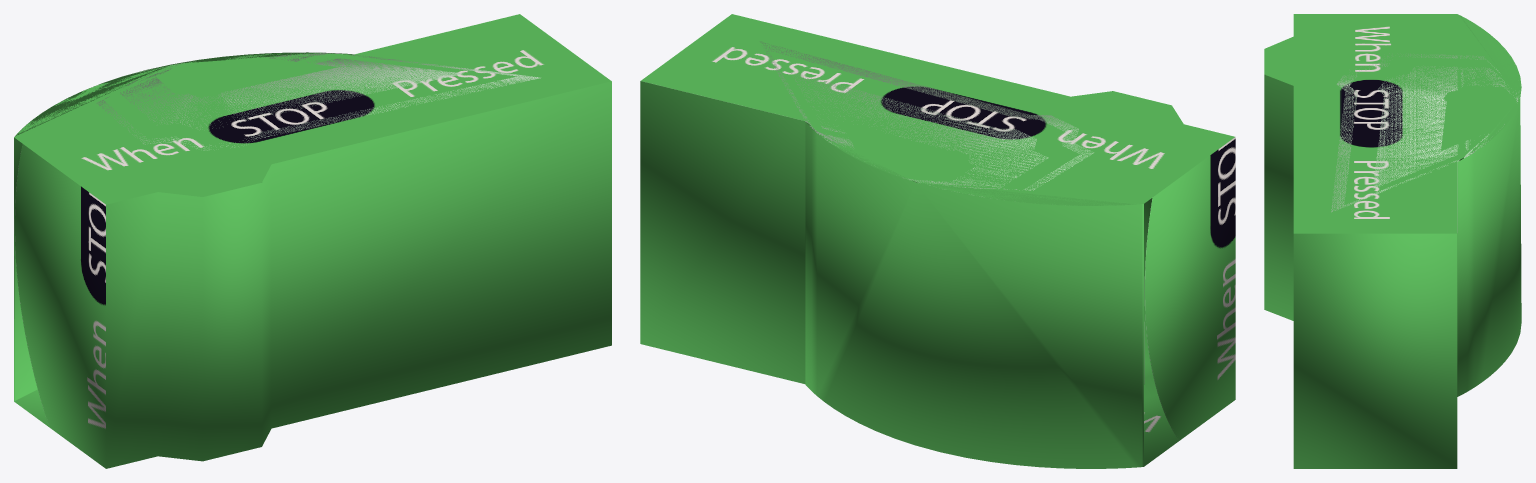
Rendered from Tombol .fbx.
3 views of the same model, side by side, from view 1: azimuth 30°, elevation 25°; view 2: azimuth 150°, elevation 25°; view 3: azimuth 270°, elevation 25° (orthographic). The views are drawn at different scales.
Parts seen in each view (by area): view 1: Stop, Auto, Start; view 2: Stop, Auto, Start; view 3: Stop, Auto, Start.
Boxes of the visible parts, left/top/right/bottom form: Stop: left=14, top=14, right=611, bottom=468; Auto: left=14, top=52, right=463, bottom=319; Start: left=14, top=14, right=611, bottom=428; Stop: left=640, top=14, right=1235, bottom=468; Auto: left=791, top=73, right=1144, bottom=384; Start: left=641, top=14, right=1179, bottom=466; Stop: left=1264, top=14, right=1521, bottom=468; Auto: left=1373, top=66, right=1519, bottom=188; Start: left=1294, top=40, right=1519, bottom=233.
Bounding box in the file's own units: 28.04 × 14 × 13.87.
